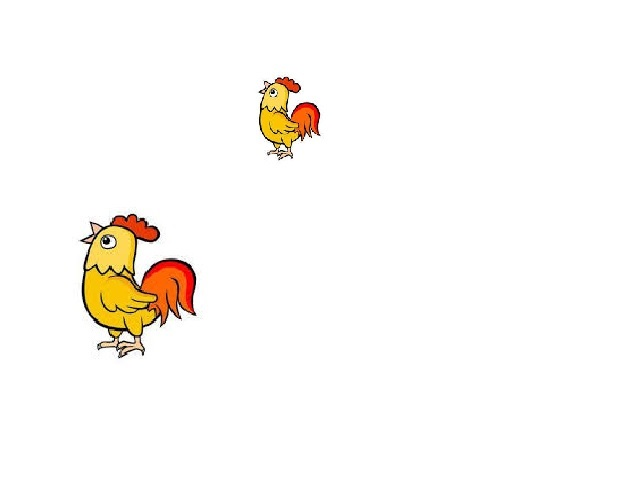crown: (110, 212, 165, 243), (275, 75, 305, 91)
eyes: (97, 233, 121, 252), (267, 88, 277, 96)
feet: (96, 334, 151, 359), (264, 147, 295, 163)
tail: (140, 256, 201, 325), (290, 103, 325, 139)
